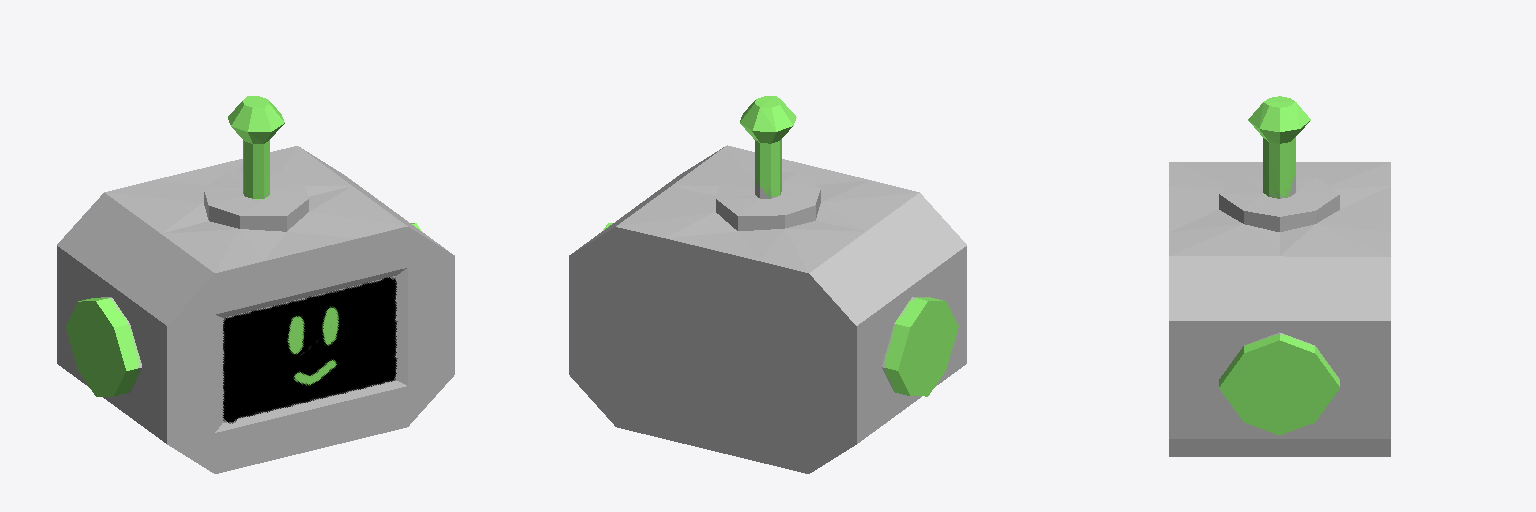
3 views of the same model, side by side, from view 1: azimuth 30°, elevation 25°; view 2: azimuth 150°, elevation 25°; view 3: azimuth 270°, elevation 25° (orthographic).
Visible parts, largest first — view 1: P_Head; view 2: P_Head; view 3: P_Head.
Boxes of the visible parts, <box> form: P_Head: <box>57,96,454,473</box>; P_Head: <box>569,96,966,473</box>; P_Head: <box>1169,96,1390,456</box>.
Bounding box in the file's own units: 1.09 × 1 × 0.6511.
1 materials, 1 textured.